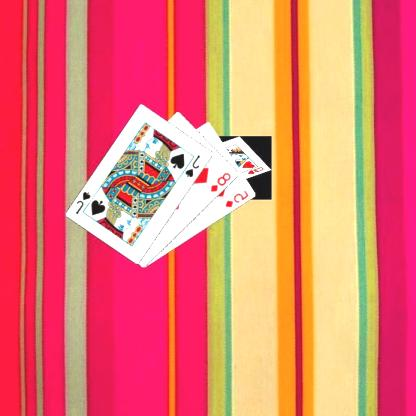5D: (224, 187, 252, 208)
8D: (210, 170, 234, 193)
JS: (74, 189, 94, 215), (184, 152, 203, 179)
